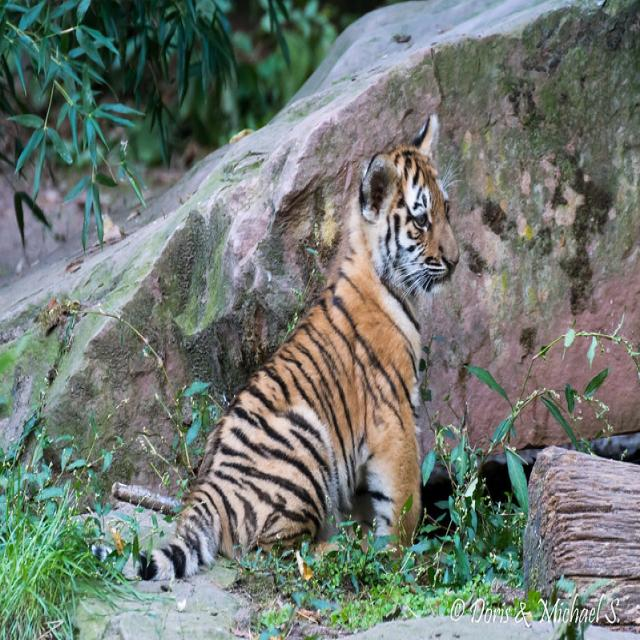Tiger: (138, 133, 460, 579)
